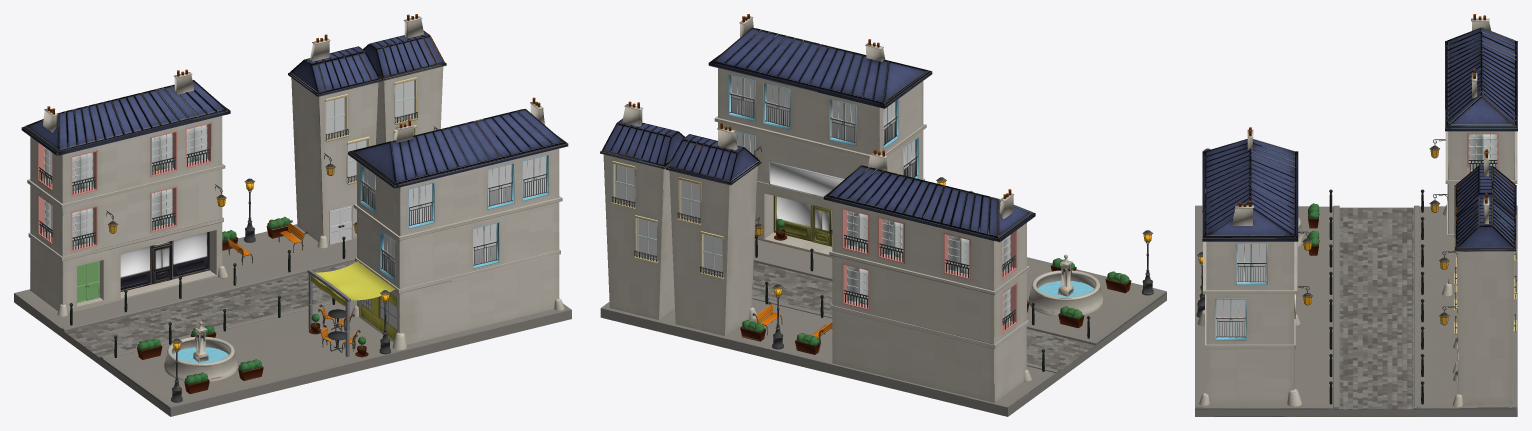
The model's file is FrenchStreer.fbx.
3 renders of one model, left to right at view 1: azimuth 30°, elevation 25°; view 2: azimuth 150°, elevation 25°; view 3: azimuth 270°, elevation 25°, orthographic. The views are drawn at different scales.
Parts seen in each view (by area): view 1: FrenchStreet_Baked; view 2: FrenchStreet_Baked; view 3: FrenchStreet_Baked.
Boxes of the visible parts, x1,y1,x2,y2 form: FrenchStreet_Baked: [14, 14, 571, 416]; FrenchStreet_Baked: [600, 14, 1166, 416]; FrenchStreet_Baked: [1195, 14, 1517, 416].
Size of the model in its own units: 1663 by 837 by 1122.
